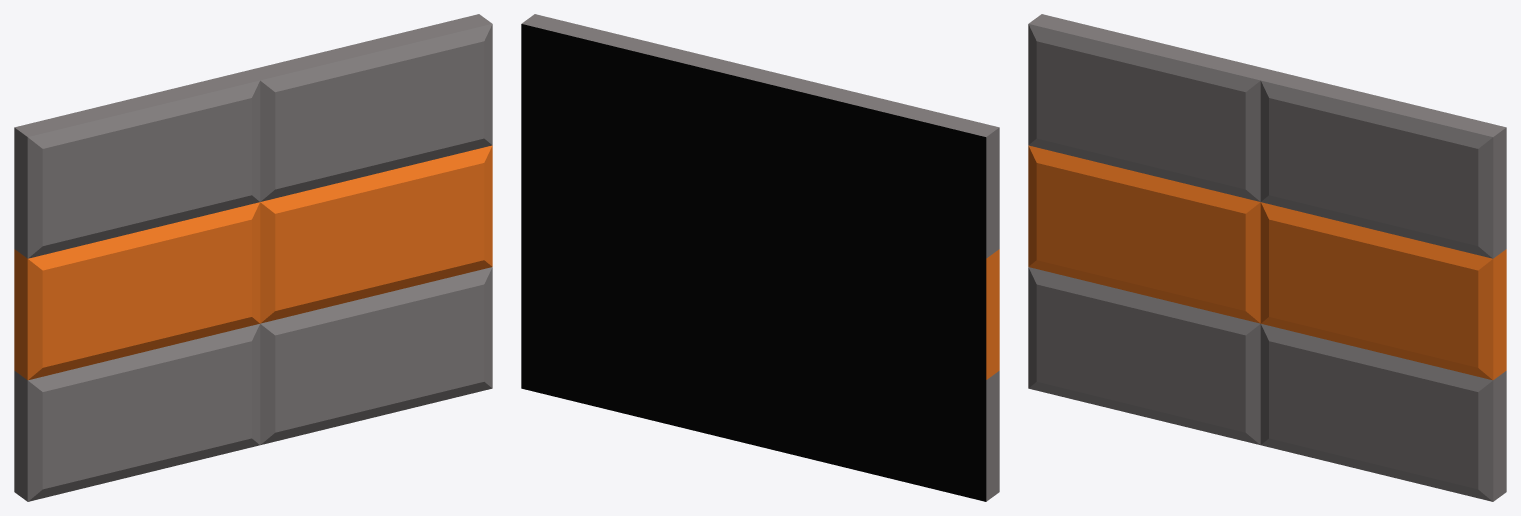
The model's file is scifi-wall-stripe.glb.
3 views of the same model, side by side, from view 1: azimuth 30°, elevation 25°; view 2: azimuth 150°, elevation 25°; view 3: azimuth 330°, elevation 25° (orthographic).
Parts seen in each view (by area): view 1: scifi-wall-stripe; view 2: scifi-wall-stripe; view 3: scifi-wall-stripe.
Boxes of the visible parts, bbox=[...] form: scifi-wall-stripe: bbox=[14, 14, 492, 501]; scifi-wall-stripe: bbox=[521, 14, 999, 501]; scifi-wall-stripe: bbox=[1028, 14, 1506, 501].
Size of the model in its own units: 4 by 3 by 0.25.
1 material, 1 textured.
